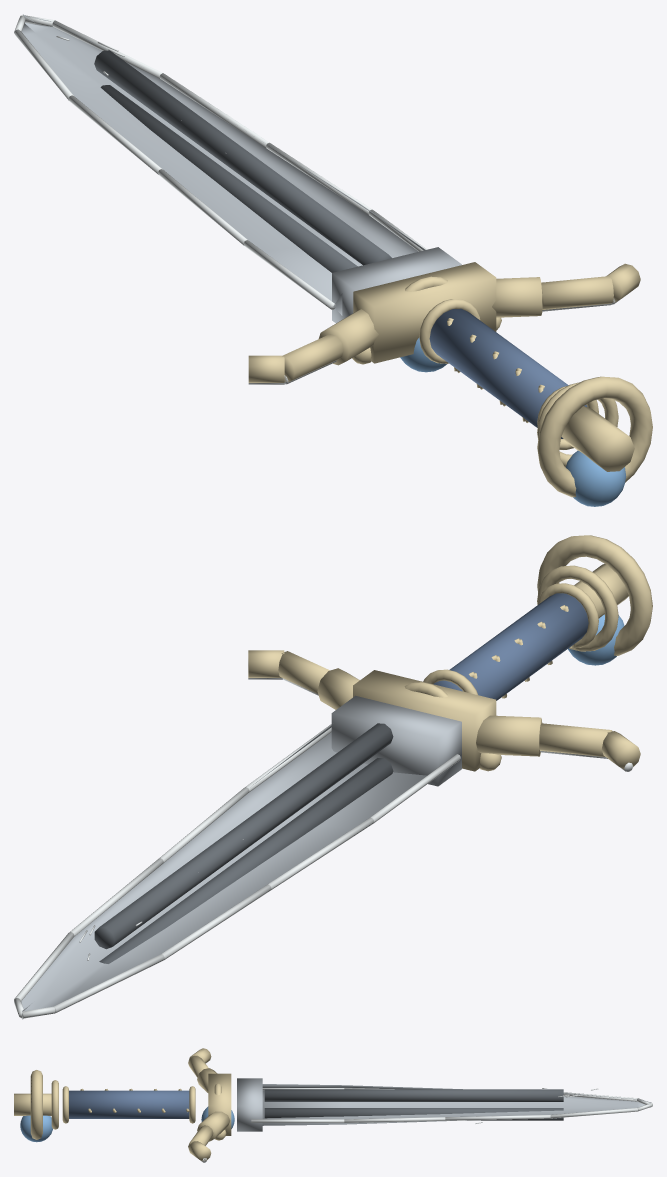
The picture shows the model from 3 angles, top to bottom: view 1: azimuth 30°, elevation 25°; view 2: azimuth 150°, elevation 25°; view 3: azimuth 270°, elevation 25°; orthographic projection. The views are drawn at different scales.
Visible parts, largest first — view 1: gold, steel, black, wrap, edge, gem; view 2: steel, gold, black, edge, wrap, gem; view 3: steel, black, gold, wrap, edge, gem.
Boxes of the visible parts, x1,y1,x2,y2 form: gold: [248, 262, 652, 497]; steel: [21, 14, 461, 323]; black: [94, 50, 584, 406]; wrap: [429, 308, 587, 438]; edge: [14, 15, 619, 384]; gem: [400, 337, 626, 506]; steel: [21, 695, 461, 1019]; gold: [248, 535, 652, 771]; black: [94, 723, 393, 963]; edge: [14, 678, 633, 1018]; wrap: [433, 593, 588, 700]; gem: [568, 614, 624, 665]; steel: [237, 1078, 651, 1131]; black: [264, 1089, 563, 1120]; gold: [14, 1048, 231, 1161]; wrap: [69, 1090, 189, 1118]; edge: [201, 1088, 652, 1162]; gem: [20, 1106, 234, 1142].
Size of the model in its own units: 2.77 by 0.8459 by 7.26.
